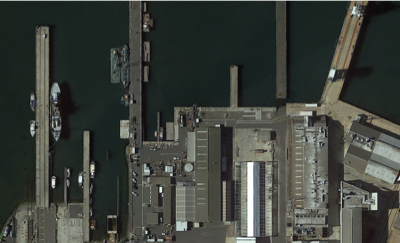boat: (50, 81, 64, 142), (119, 43, 131, 89), (30, 90, 36, 112), (30, 120, 36, 137), (78, 171, 84, 186), (90, 161, 96, 176), (51, 175, 57, 188), (89, 182, 94, 194), (160, 127, 164, 140), (67, 166, 71, 177), (67, 177, 70, 188), (121, 96, 125, 104), (154, 130, 158, 138), (90, 206, 93, 216), (90, 196, 93, 205), (90, 176, 95, 178), (81, 185, 84, 188)
